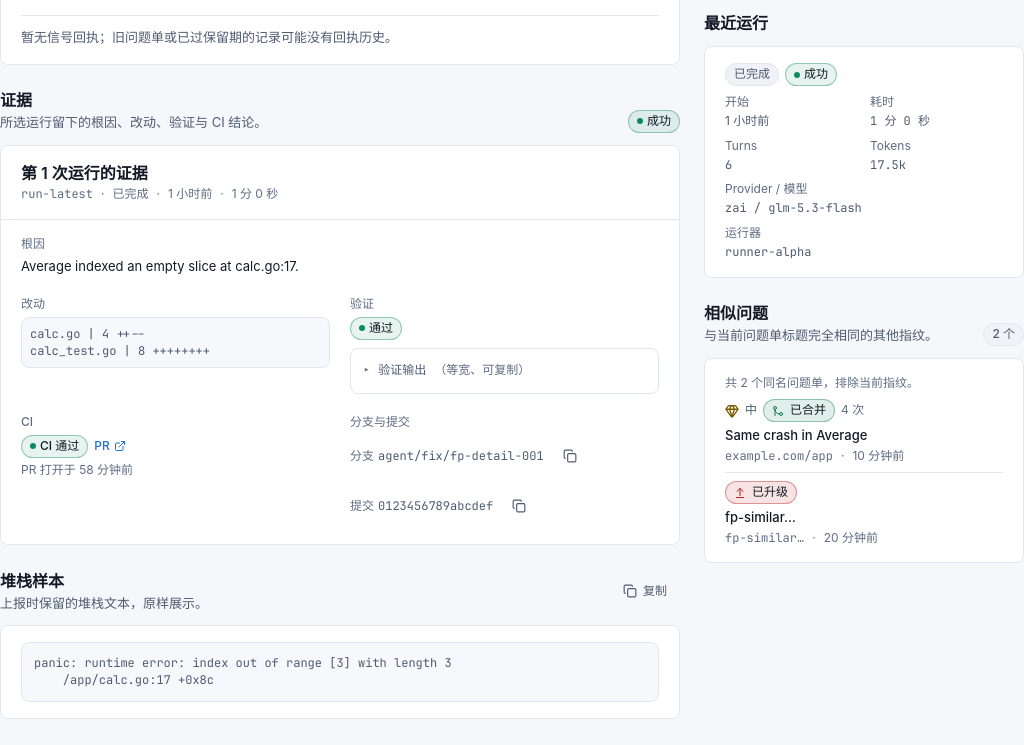
Test case: IssueDetailPage › renders the header, timeline, evidence, runs, stack and similar issues
(page scrolled)
Check: the text "Average indexed an empty slice at calc.go:17." is shown, box x1=21 y1=258 x2=299 y2=274
Check: the text "calc.go | 4 ++-- calc_test.go | 8 ++++++++" is shown, box x1=21 y1=317 x2=330 y2=368
Click the heading "▸ 验证输出 （等宽、可复制）" at (447, 370), box x1=363 y1=362 x2=530 y2=378
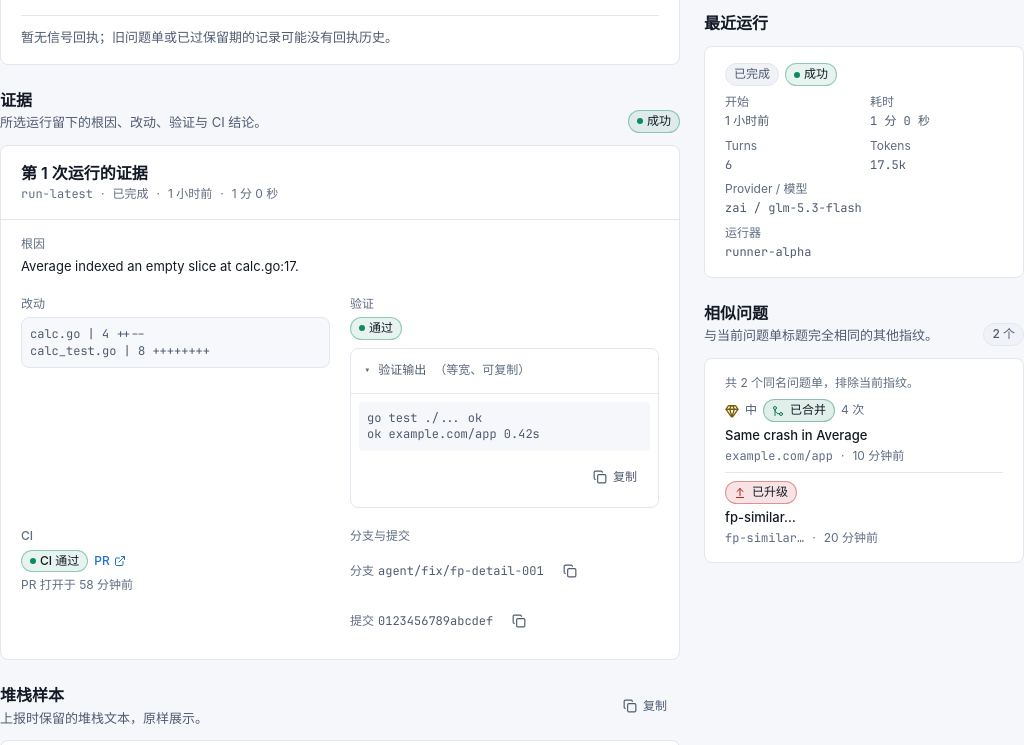
Check: the text "共 2 个同名问题单，排除当前指纹。" is shown, box x1=725 y1=374 x2=919 y2=390
Check: the text "go test ./... ok ok example.com/app 0.42s" is shown, box x1=359 y1=402 x2=650 y2=451
Check: the button with aria-label "复制验证输出" is shown, box x1=580 y1=455 x2=650 y2=499
